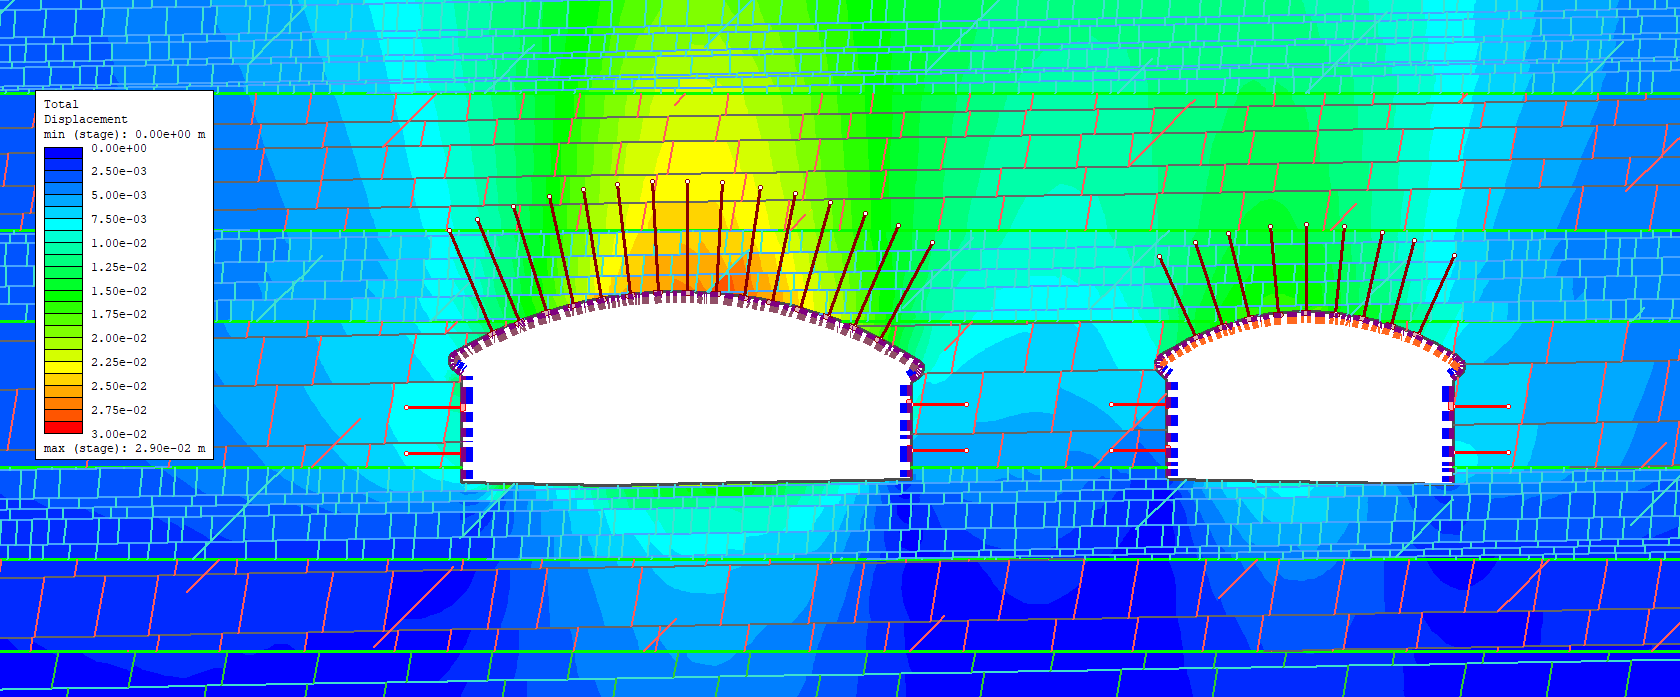crown: (645, 266, 744, 287), (1281, 287, 1348, 309)
label: (36, 93, 213, 461)
tunnel-opening: (447, 292, 922, 484), (1154, 314, 1465, 481)
